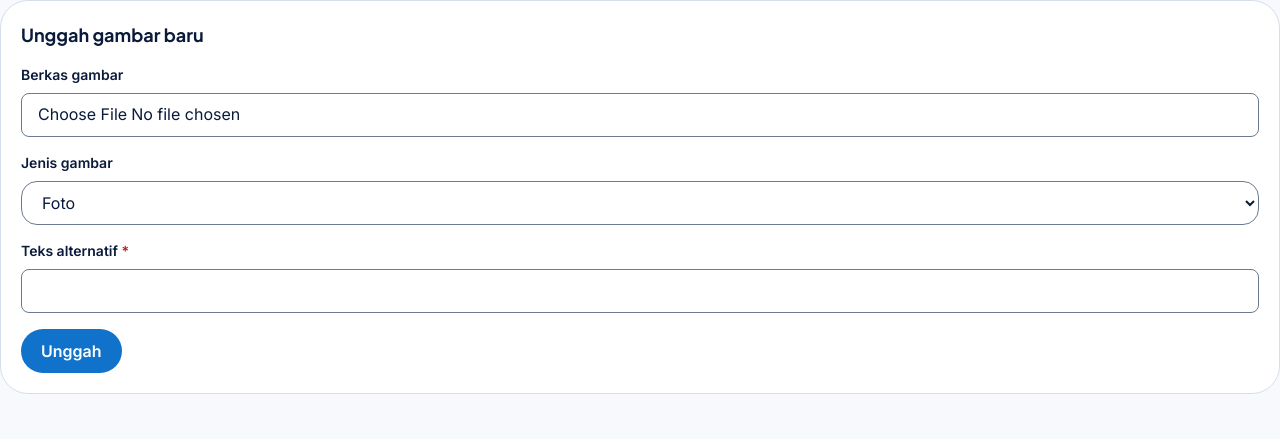
Test: media upload › asks for a file when none is chosen
Type "Tim sedang rapat" into the field labelled "Teks alternatif *" at (640, 291), box [21,269,1259,313]
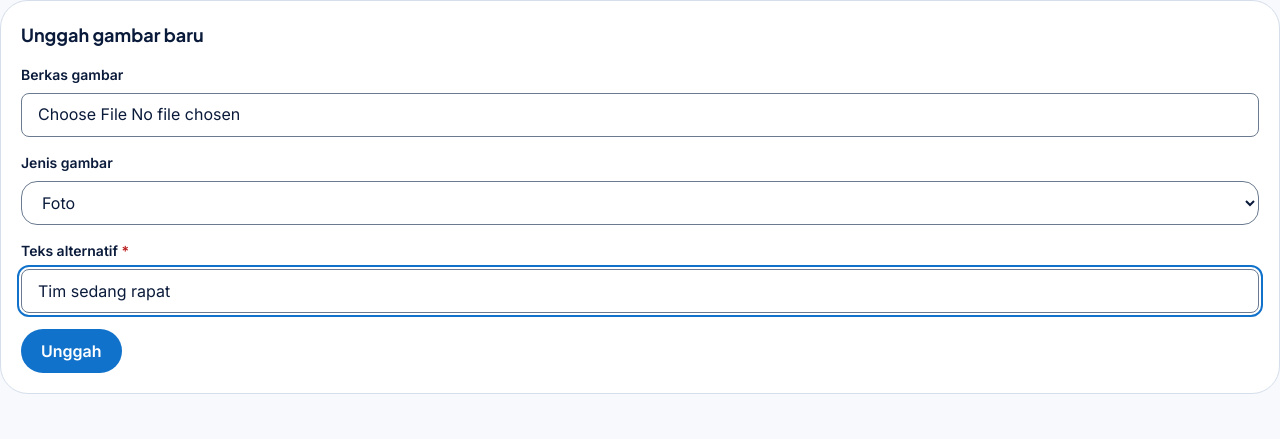
Click the button "Unggah" at (71, 351), box [21,329,122,373]
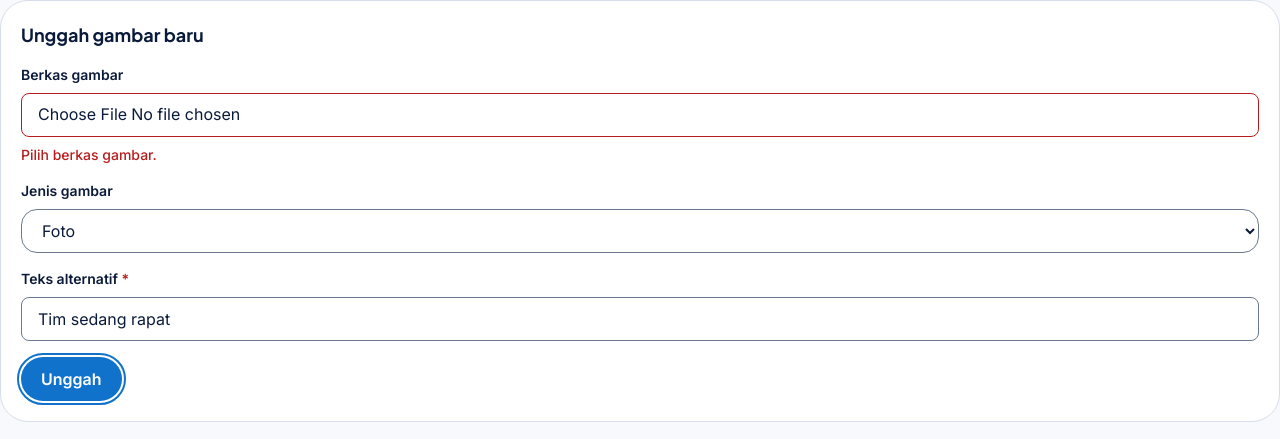
Now the text "Pilih berkas gambar." is shown, box [21,146,157,163]
